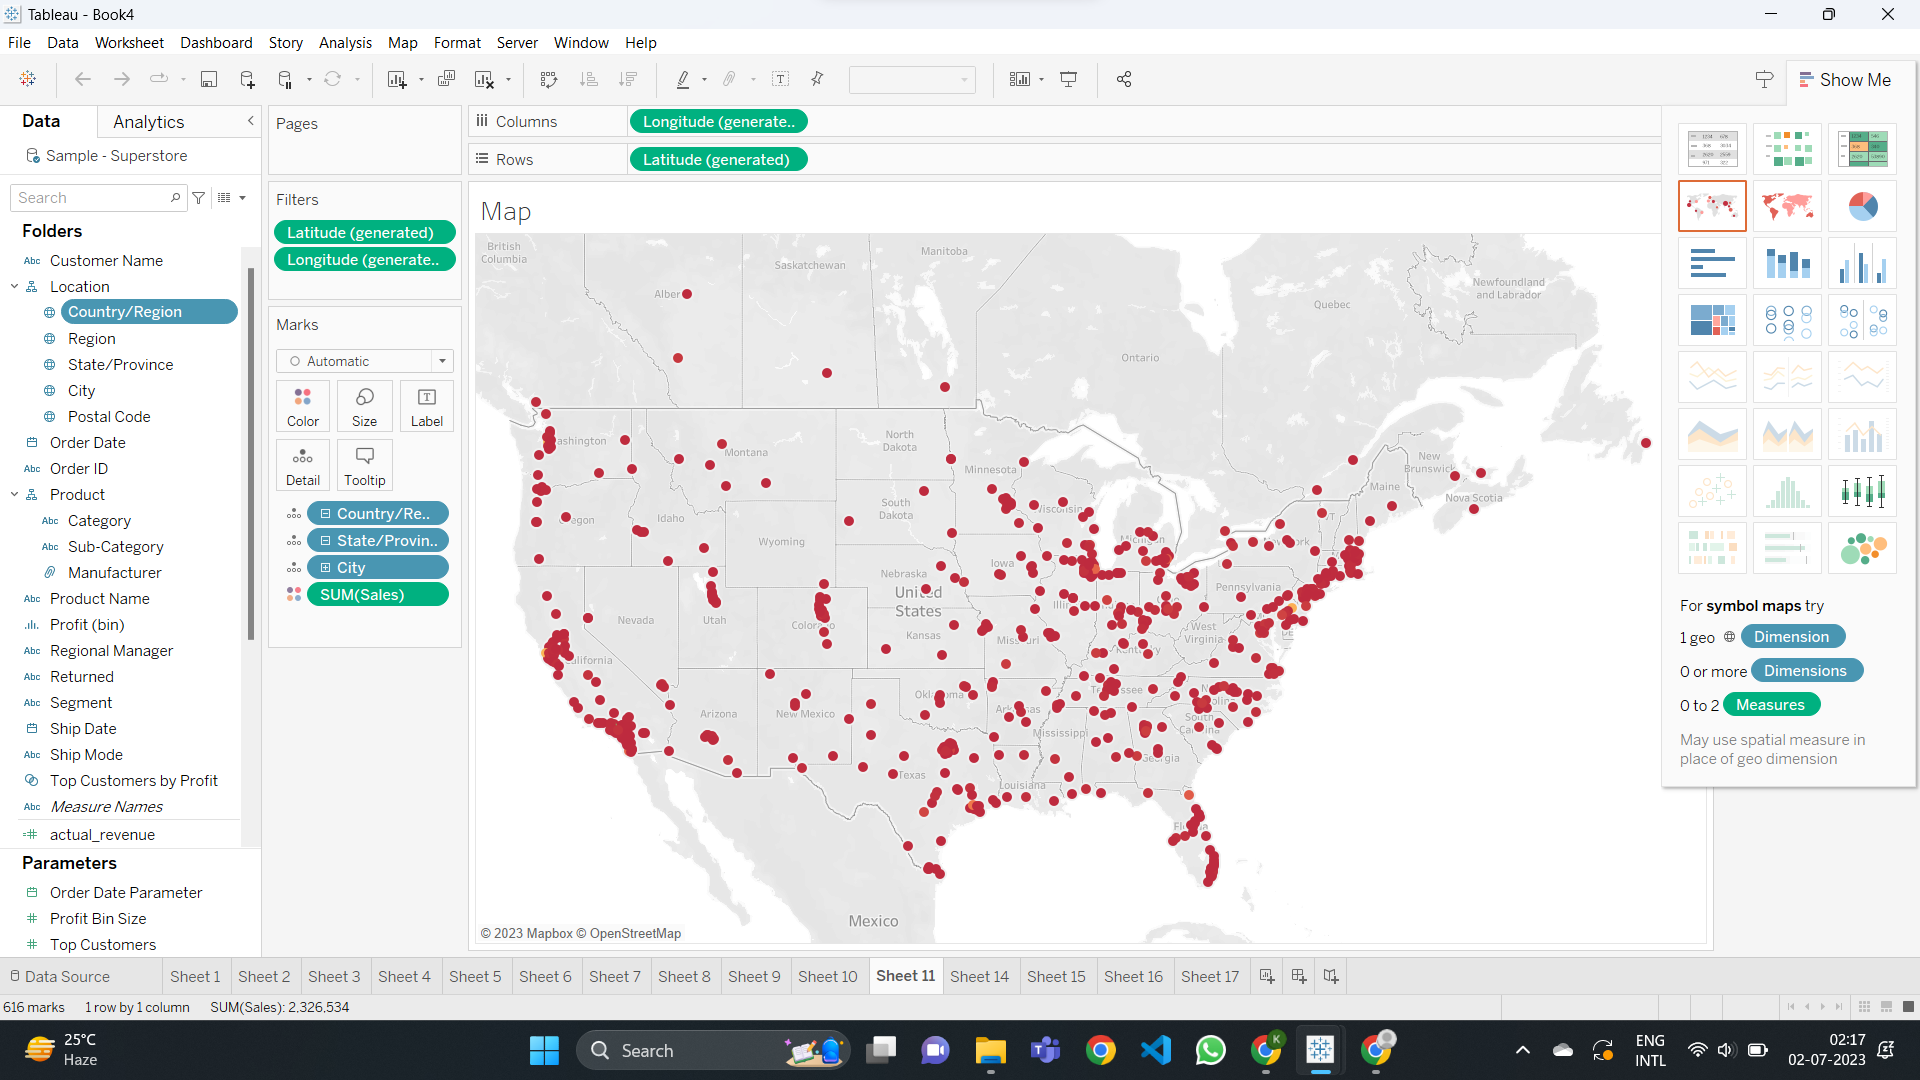

This screenshot's page, from the dashboard's own definition file:
{"tool":"tableau","page":{"name":"Dashboard 5","canvas":[1000,800],"ordinal":2},"visuals":[{"type":"worksheet","title":"Sheet 11","mark":"Automatic","box":[8,8,824,784]},{"type":"legend","title":"Sheet 11","param":"[federated.1s1gakv1chf7ci1a48s9z1sl9pf5].[none:Calculation_2221682034224218112:n","box":[832,8,160,135]},{"type":"legend","title":"Sheet 11","param":"[federated.1s1gakv1chf7ci1a48s9z1sl9pf5].[cnt:id:qk]","box":[832,143,160,73]}]}

Visuals, with their boxes on the page's 1000x800 design canvas (x1, y1, x2, y2). These are canvas units, not pixel positions in the 1920x1080 screenshot, which may show the page scaled, cropped or inside an application window:
"Sheet 11" worksheet: [8,8,832,792]
"Sheet 11" legend: [832,8,992,143]
"Sheet 11" legend: [832,143,992,216]
